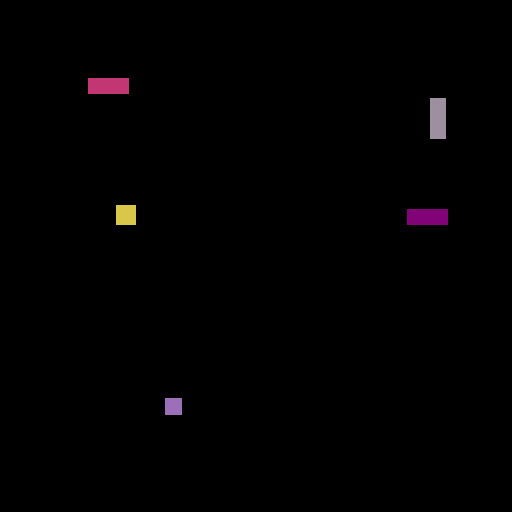side_rect: (404, 208, 454, 228), (83, 76, 133, 96)
square: (114, 203, 138, 226), (160, 391, 184, 414)
up_rect: (429, 96, 449, 141)
